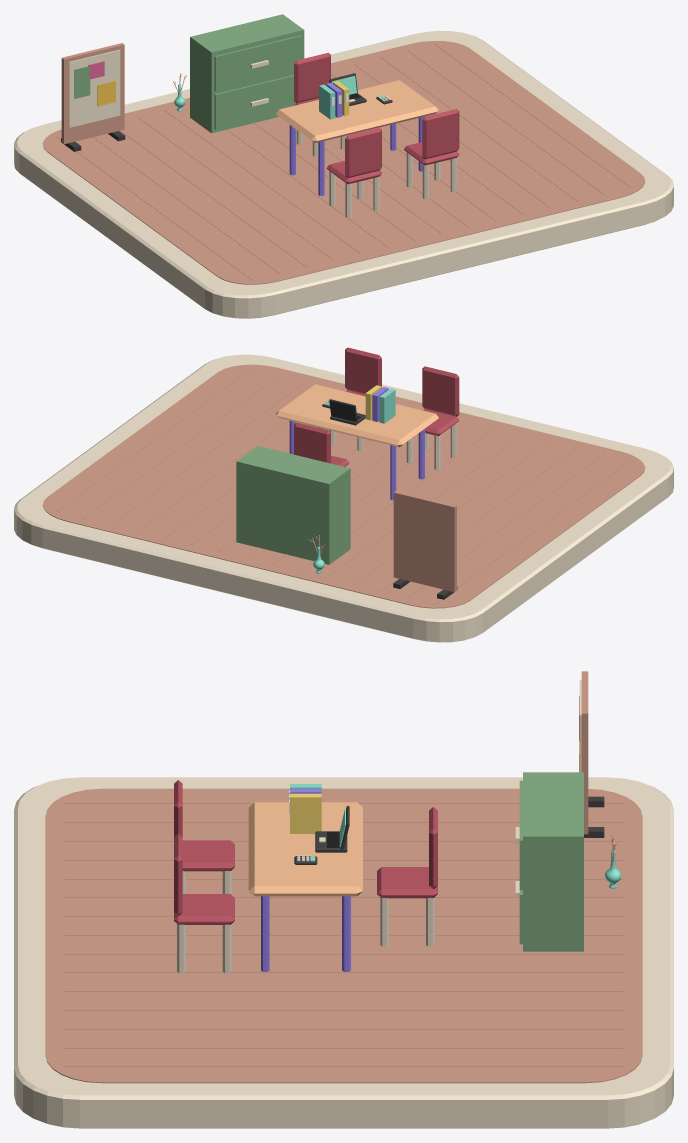
The picture shows the model from 3 angles, top to bottom: view 1: azimuth 30°, elevation 25°; view 2: azimuth 150°, elevation 25°; view 3: azimuth 270°, elevation 25°; orthographic projection. The views are drawn at different scales.
Visible parts, largest first — view 1: COM-02 Floor Surface, COM-01 Rounded Base Direct, Cabinet, Rounded table top, Canvas, Panel, Backrest.001, Backrest, Backrest.002, Abstract geometric work, Seat.001, File (+1 smaller); view 2: COM-02 Floor Surface, COM-01 Rounded Base Direct, Cabinet, Panel, Rounded table top, Backrest, Backrest.001, Backrest.002, File, Seat, Hinged display; view 3: COM-02 Floor Surface, COM-01 Rounded Base Direct, Cabinet, Rounded table top, Seat.002, Seat.001, Seat, File.002, Panel, Plank seam.011, Plank seam.012, Plank seam.013 (+7 smaller).
Part boxes in pixels (x1,y1,x2,y2): COM-02 Floor Surface: (42,41,645,284); COM-01 Rounded Base Direct: (14,30,673,318); Cabinet: (190,14,304,133); Rounded table top: (276,80,438,142); Canvas: (69,49,120,127); Panel: (61,43,124,144); Backrest.001: (422,109,459,159); Backrest: (345,128,381,178); Backrest.002: (294,52,330,102); Abstract geometric work: (74,66,90,98); Seat.001: (404,142,459,165); File: (319,84,335,119); COM-02 Floor Surface: (42,364,645,608); COM-01 Rounded Base Direct: (14,354,673,642); Cabinet: (236,446,350,564); Panel: (393,491,456,592); Rounded table top: (275,384,438,447); Backrest: (422,366,459,416); Backrest.001: (345,347,381,394); Backrest.002: (294,422,330,463); File: (379,388,395,423); Seat: (423,409,459,436); Hinged display: (329,399,357,422); COM-02 Floor Surface: (45,788,642,1083); COM-01 Rounded Base Direct: (14,777,673,1128); Cabinet: (515,772,583,951); Rounded table top: (248,802,362,896); Seat.002: (377,867,437,898); Seat.001: (174,894,234,924); Seat: (182,840,234,871); File.002: (290,793,321,833); Panel: (581,671,588,834); Plank seam.011: (64,1009,623,1010); Plank seam.012: (64,1028,623,1029); Plank seam.013: (64,1047,623,1048).
Size of the model in its own units: 6 by 1.42 by 5.2.
1 material, 1 textured.
